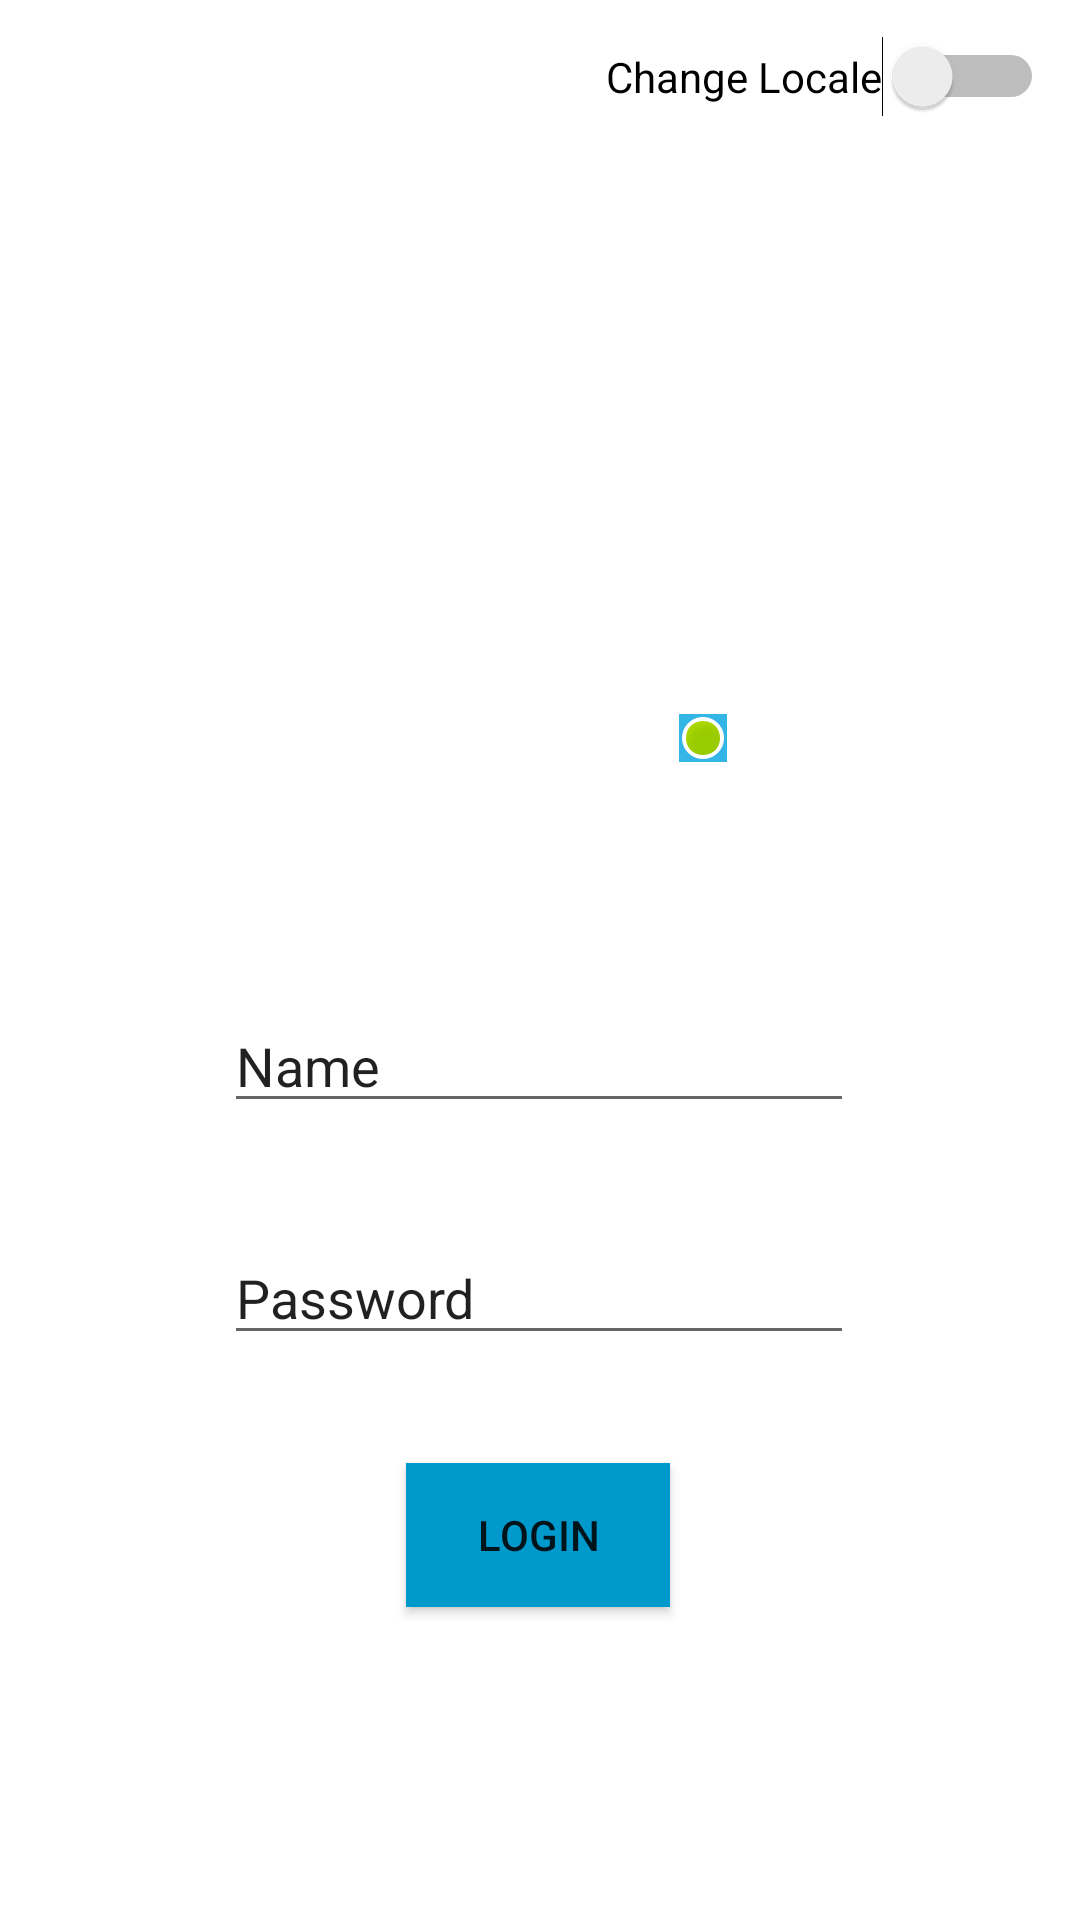

Screen size 1080px x 1920px. Icon name, then its box in pixels as (x1, y1, x2, y2):
presence online: (679, 714, 727, 762)
